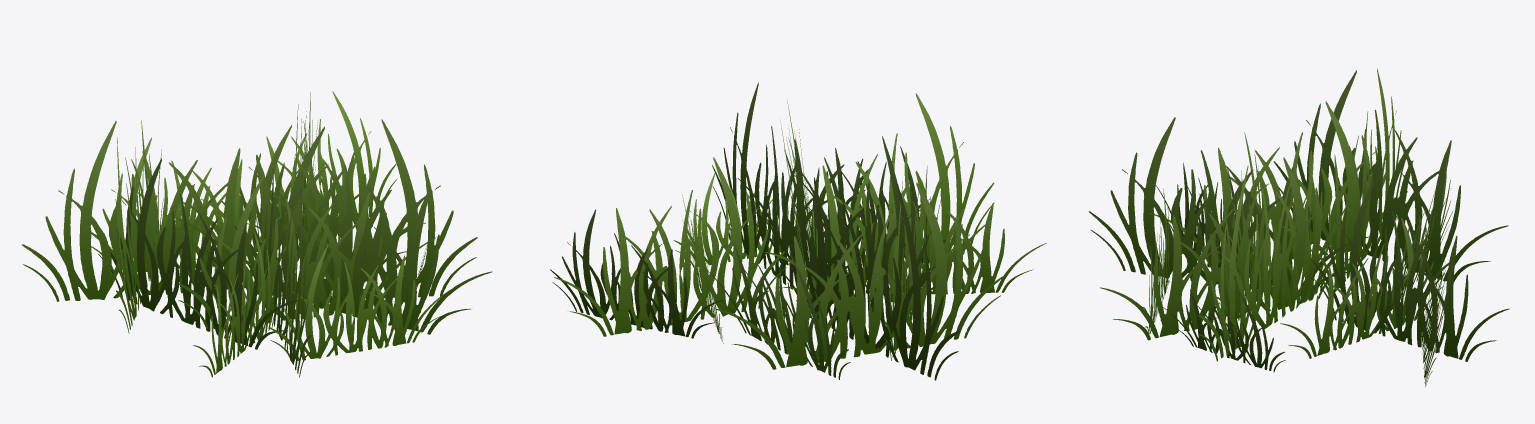
Rendered from mid_grass_01.gltf.
3 renders of one model, left to right at view 1: azimuth 30°, elevation 25°; view 2: azimuth 150°, elevation 25°; view 3: azimuth 270°, elevation 25°, orthographic. The views are drawn at different scales.
Parts seen in each view (by area): view 1: default; view 2: default; view 3: default.
Boxes of the visible parts, x1,y1,x2,y2 form: default: (22, 91, 492, 377); default: (550, 82, 1046, 380); default: (1088, 68, 1509, 387).
Size of the model in its own units: 1.16 by 0.5771 by 1.13.
1 material, 1 textured.
